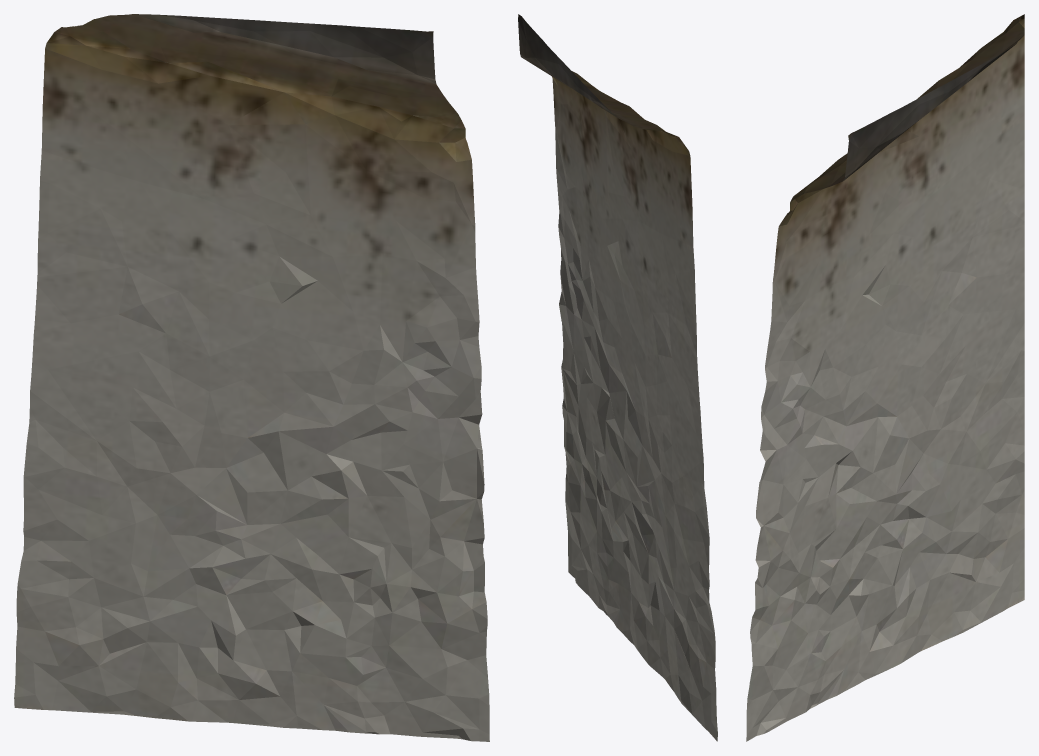
The picture shows the model from 3 angles, left to right: view 1: azimuth 30°, elevation 25°; view 2: azimuth 150°, elevation 25°; view 3: azimuth 270°, elevation 25°; orthographic projection. The views are drawn at different scales.
Bounding box in the file's own units: 0.4215 × 0.8374 × 0.3486.
2 materials, 2 textured.
